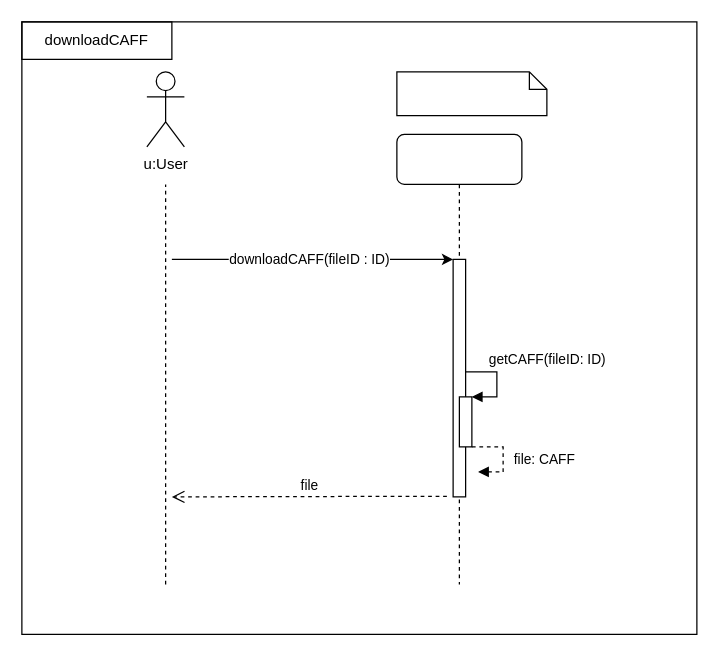
This 719x656 diagram has some shape labels left out. The shapes that lost their labels are listed below. From the top down, each one's centre as x and y in pixels, then its label:
At point (471, 93): "Minden tevékenység naplózva".
At point (459, 358): ":Fájlkezelő".
